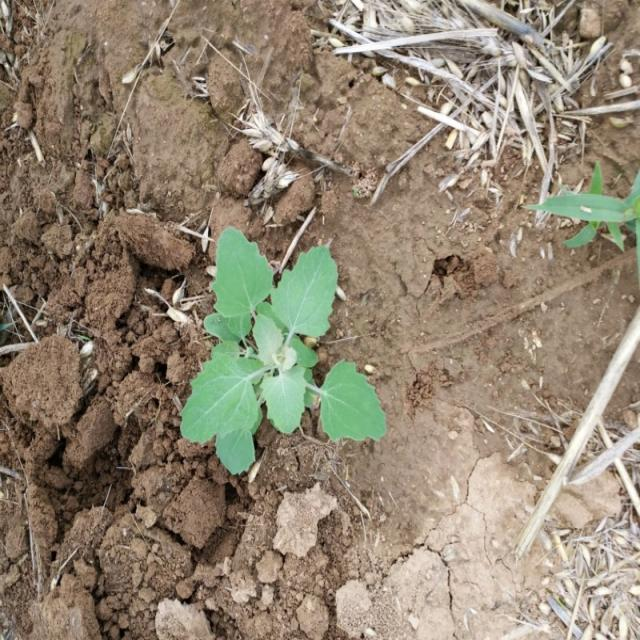goosefoots: (160, 217, 395, 472)
